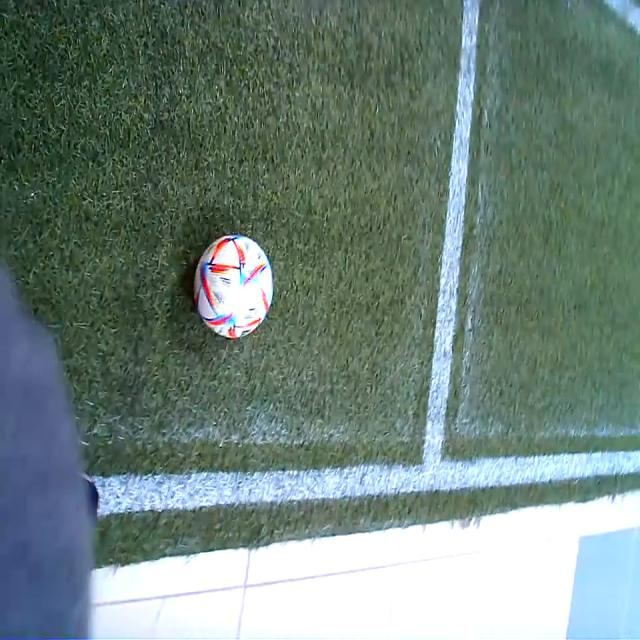ball: (194, 231, 272, 339)
